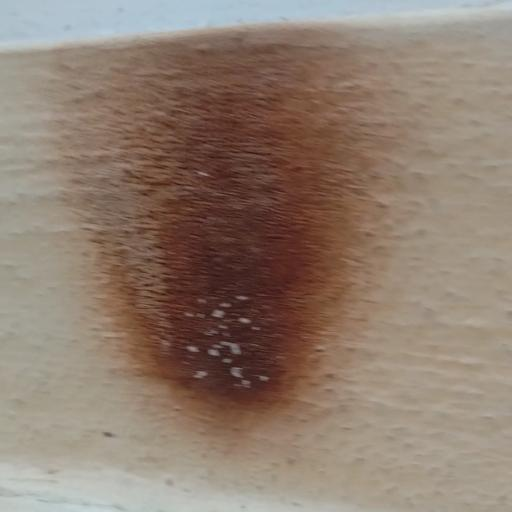stain: (25, 18, 439, 457)
